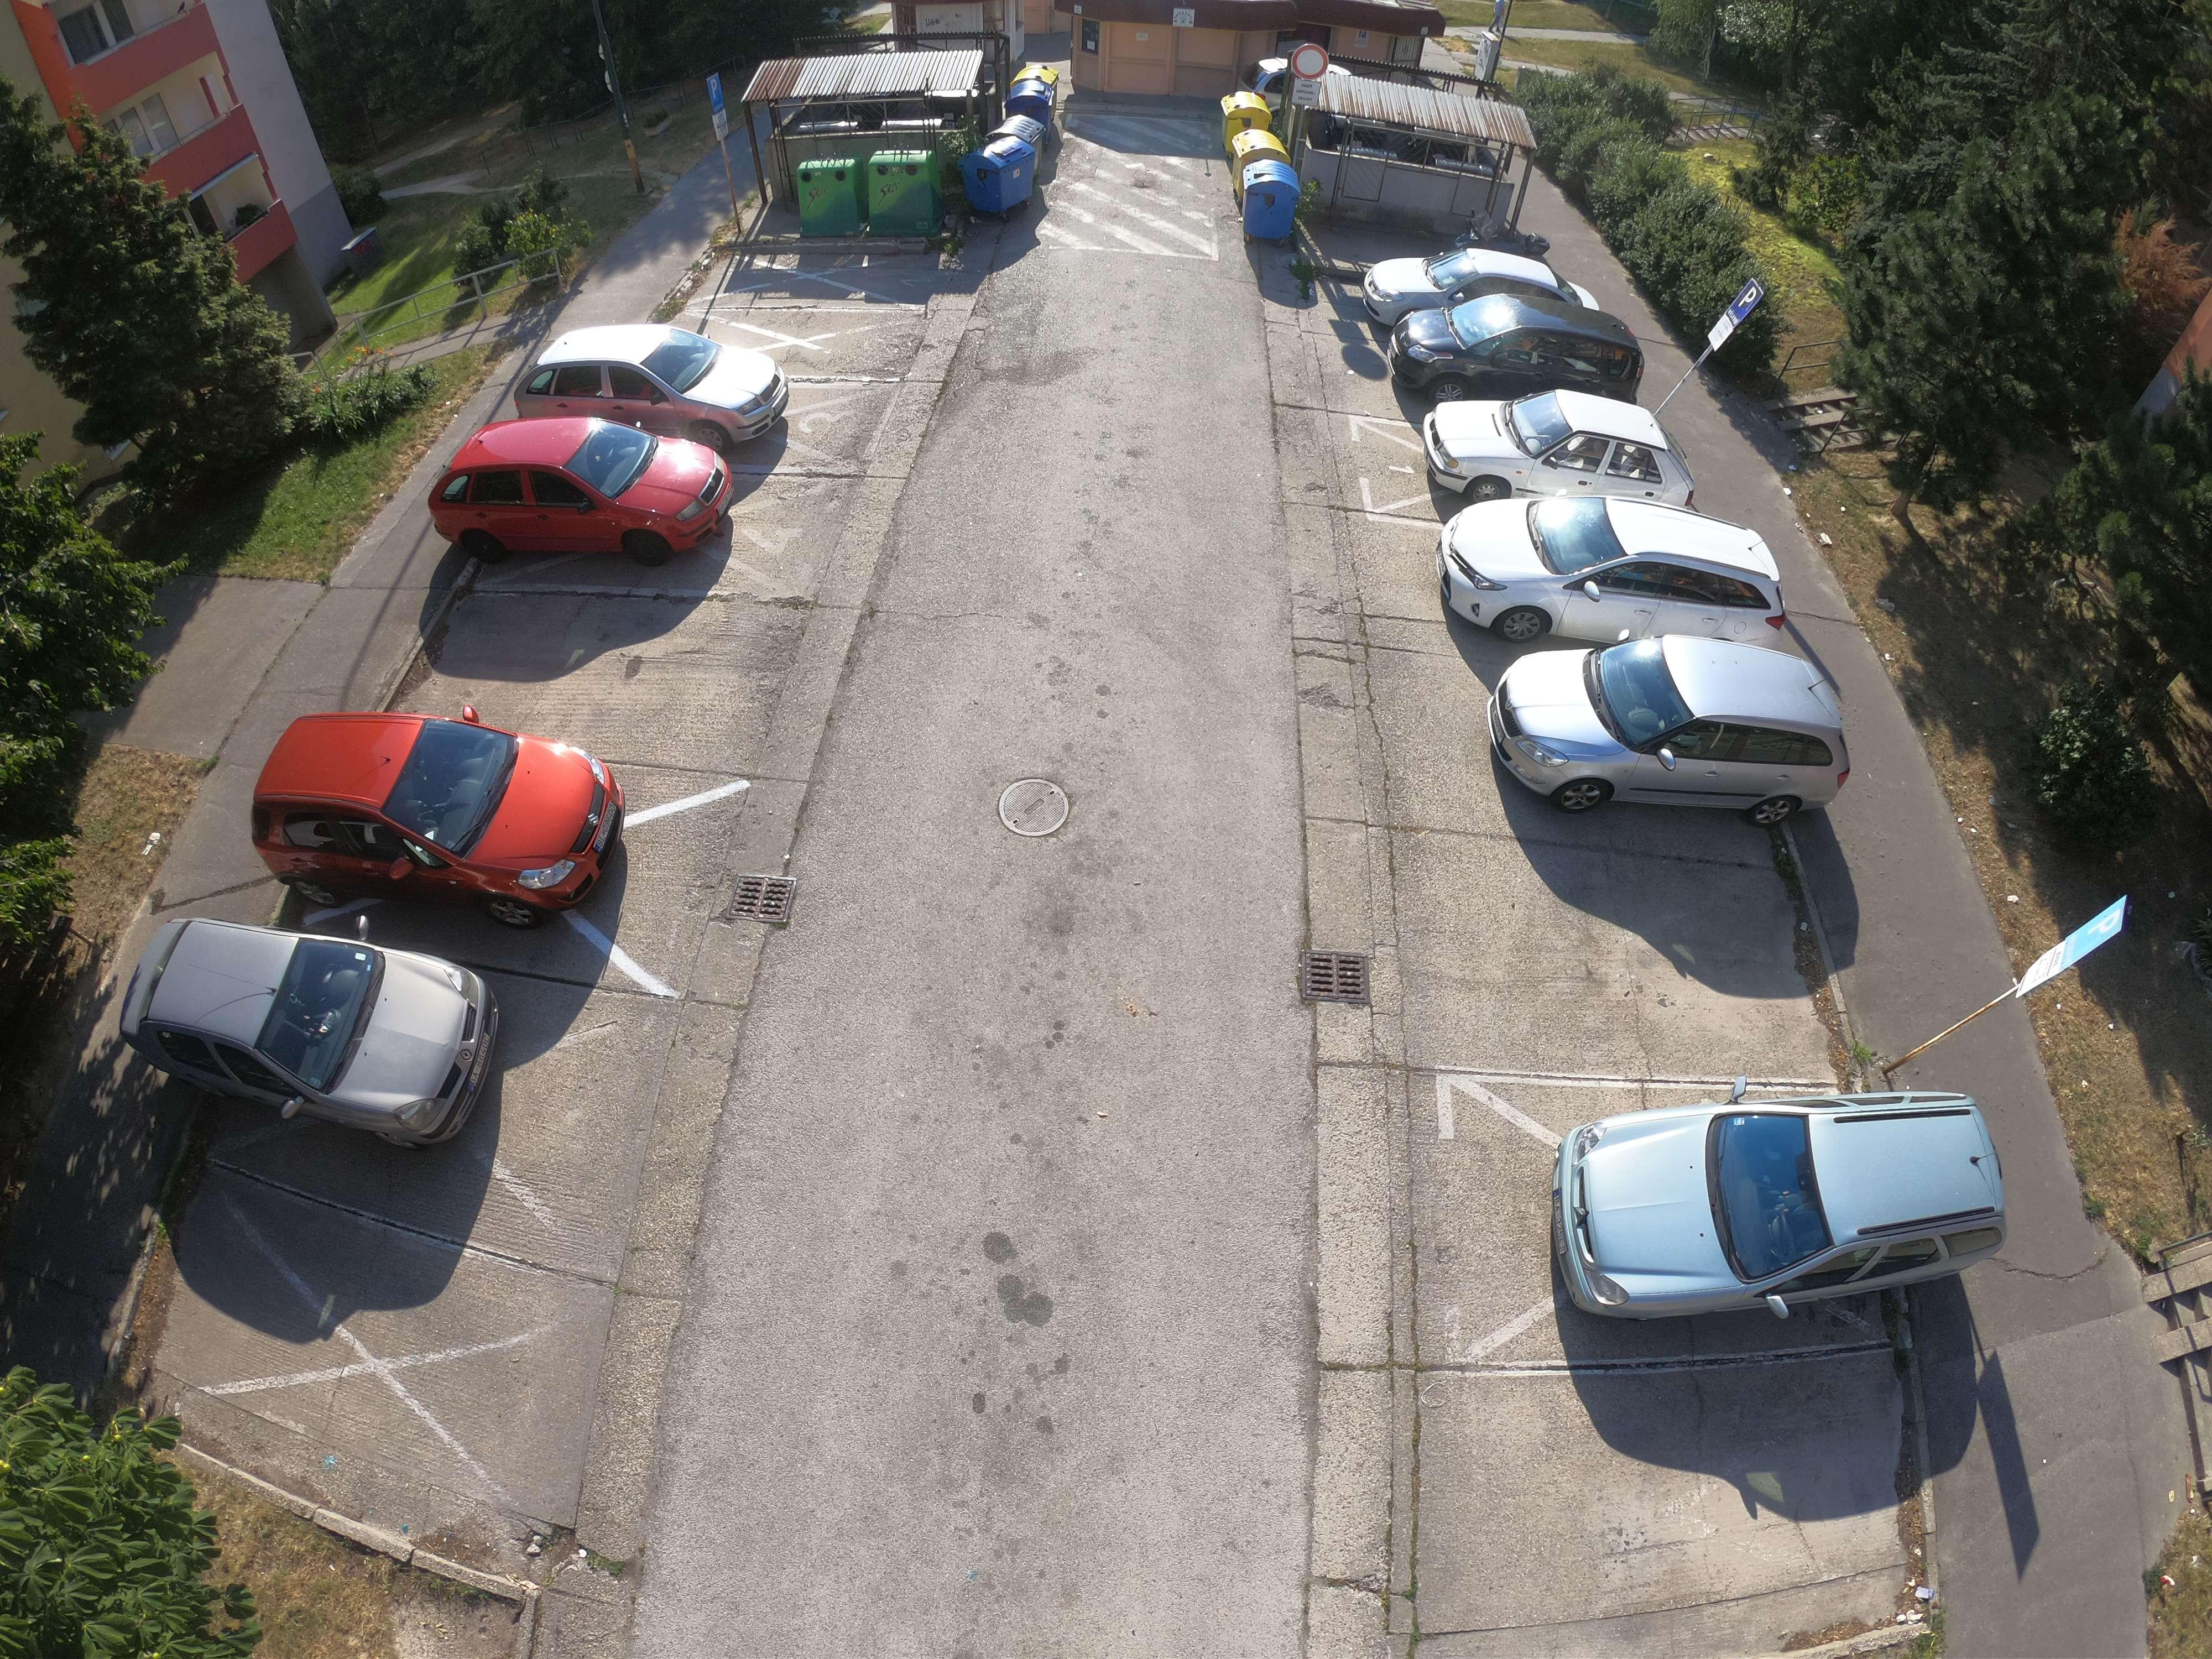empty: (1548, 1080, 2029, 1319), (134, 918, 509, 1147), (260, 713, 641, 924), (1426, 477, 1813, 657), (1508, 633, 1864, 805), (428, 420, 725, 566), (498, 331, 791, 441), (1421, 390, 1695, 495), (1372, 307, 1637, 406), (1372, 247, 1606, 331)
occupied: (1507, 1429, 1839, 1631), (197, 1258, 489, 1481), (1505, 887, 1750, 1065), (481, 594, 749, 725), (728, 288, 874, 382)
